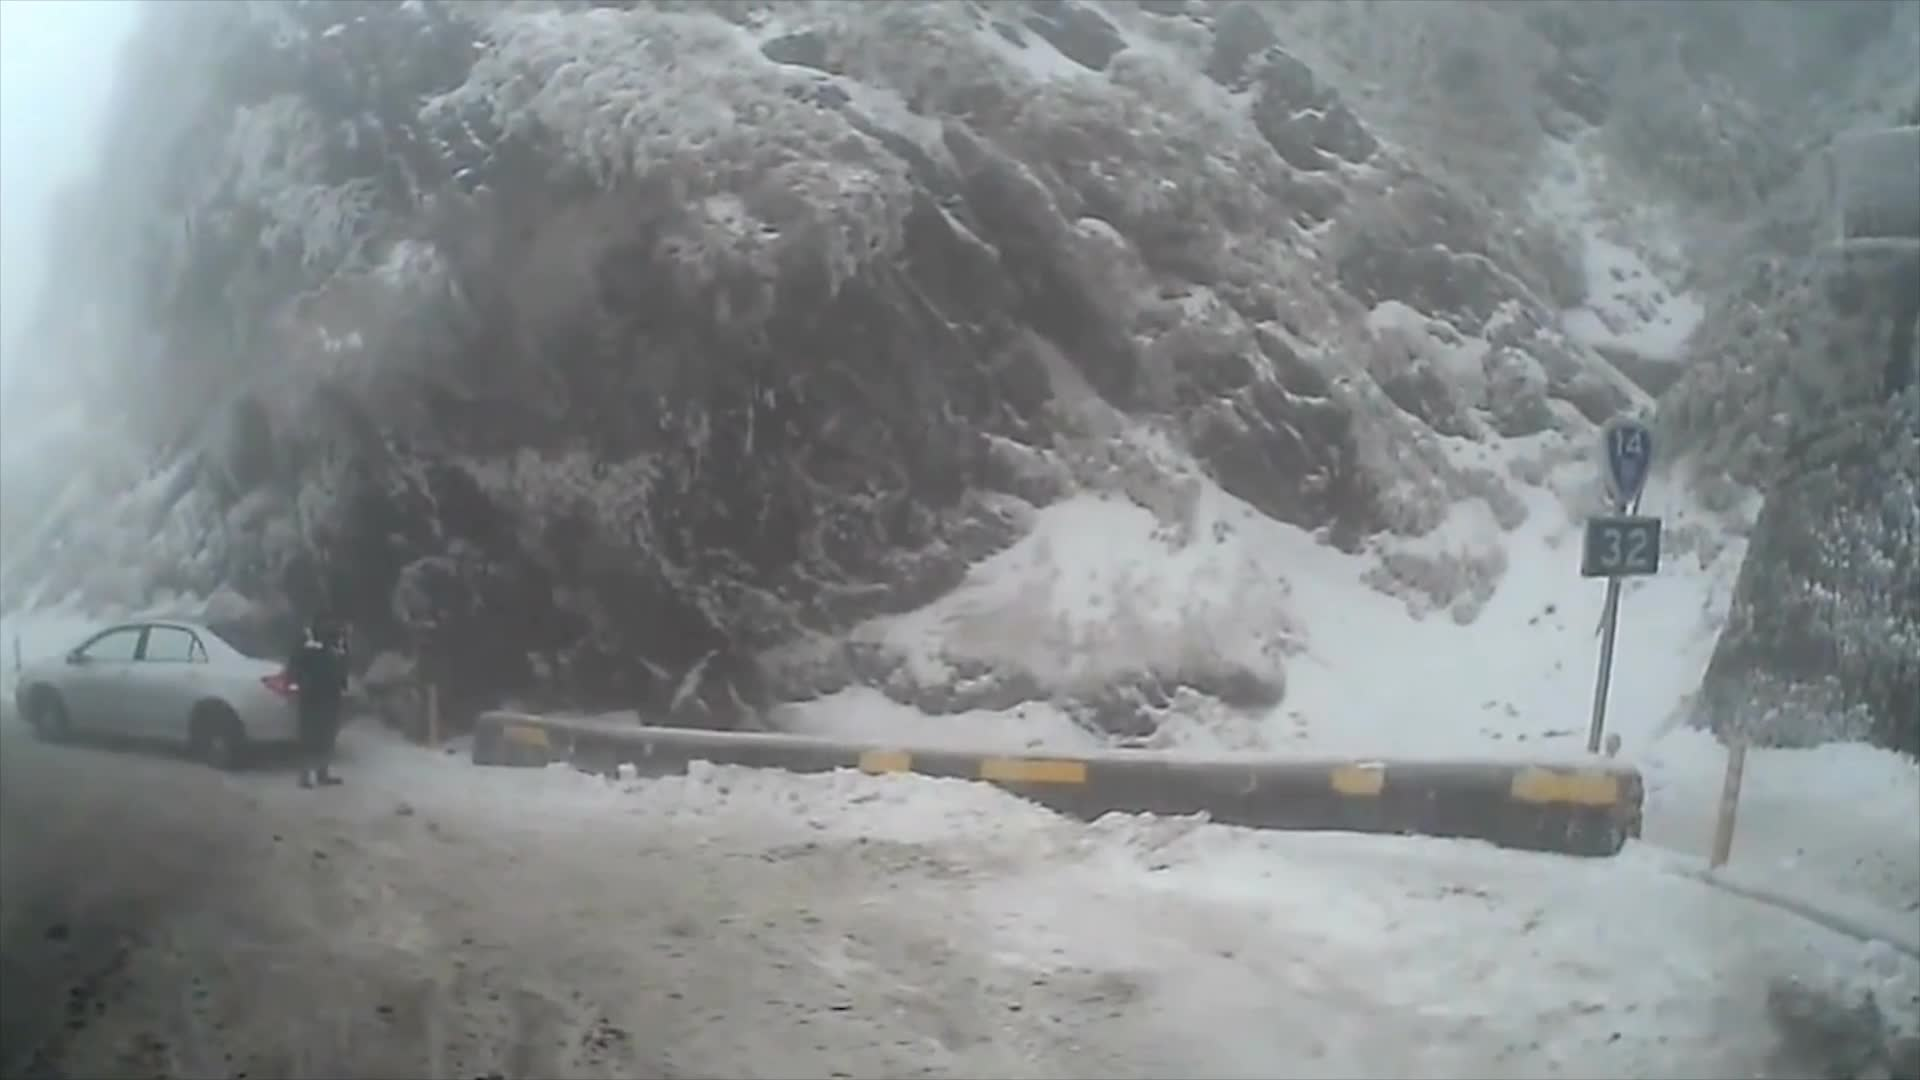pedestrian: (284, 599, 353, 788)
vehicle: (12, 609, 339, 766)
